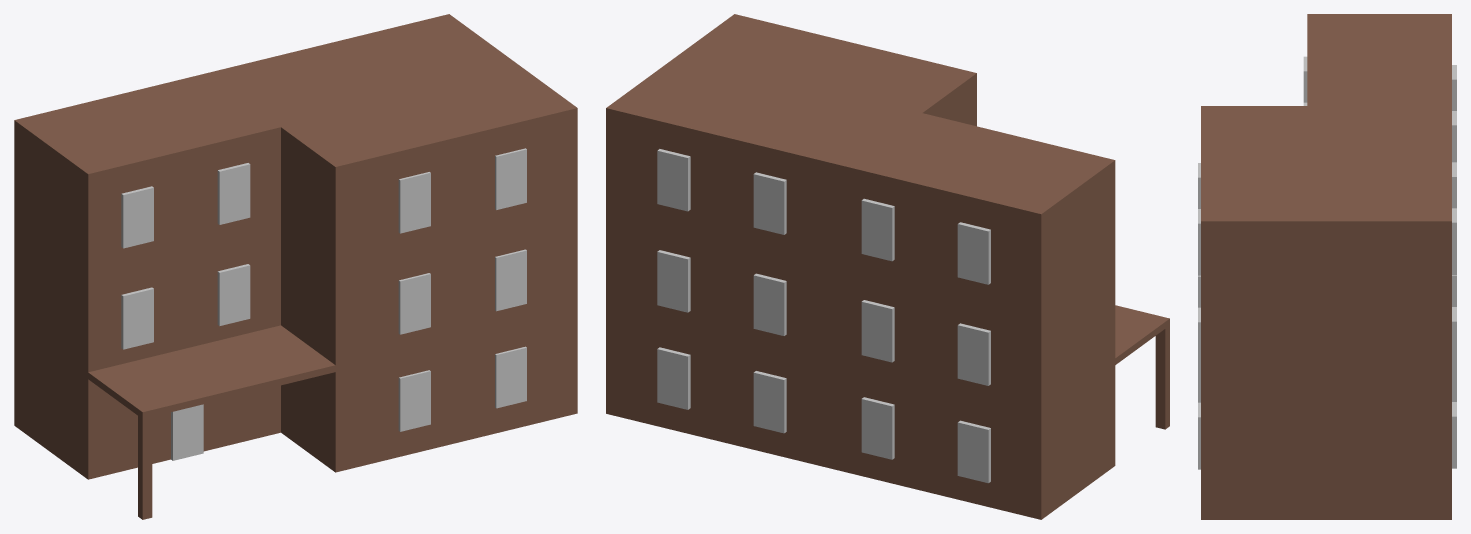
File: appartments1.FBX
The picture shows the model from 3 angles, left to right: view 1: azimuth 30°, elevation 25°; view 2: azimuth 150°, elevation 25°; view 3: azimuth 270°, elevation 25°; orthographic projection. The views are drawn at different scales.
Parts seen in each view (by area): view 1: Box001, Box004, Box005, Box006, Box003, Box019, Box021, Box020, Box024, Box022, Box023, Box002; view 2: Box001, Box012, Box008, Box010, Box018, Box013, Box014, Box015, Box009, Box011, Box016, Box017 (+1 smaller); view 3: Box001, Box011, Box013, Box018.
Part boxes in pixels (box(x1,y1,x2,y2)): Box001: box(14, 14, 577, 519); Box004: box(217, 264, 250, 325); Box005: box(217, 163, 250, 224); Box006: box(121, 186, 153, 248); Box003: box(121, 287, 153, 349); Box019: box(398, 172, 430, 233); Box021: box(398, 370, 430, 431); Box020: box(398, 273, 430, 334); Box024: box(495, 148, 526, 209); Box022: box(495, 346, 526, 408); Box023: box(495, 249, 526, 311); Box002: box(171, 404, 203, 460); Box001: box(606, 14, 1169, 519); Box012: box(753, 172, 786, 234); Box008: box(957, 222, 990, 284); Box010: box(957, 323, 990, 385); Box018: box(657, 347, 690, 409); Box013: box(657, 250, 690, 312); Box014: box(753, 273, 786, 335); Box015: box(957, 420, 990, 483); Box009: box(861, 300, 894, 362); Box011: box(657, 149, 690, 211); Box016: box(861, 397, 894, 459); Box017: box(753, 371, 786, 433); Box001: box(1201, 14, 1451, 519); Box011: box(1452, 208, 1456, 274); Box013: box(1452, 307, 1456, 373); Box018: box(1452, 402, 1456, 468).
Size of the model in its own units: 68.52 by 46.04 by 36.11.
